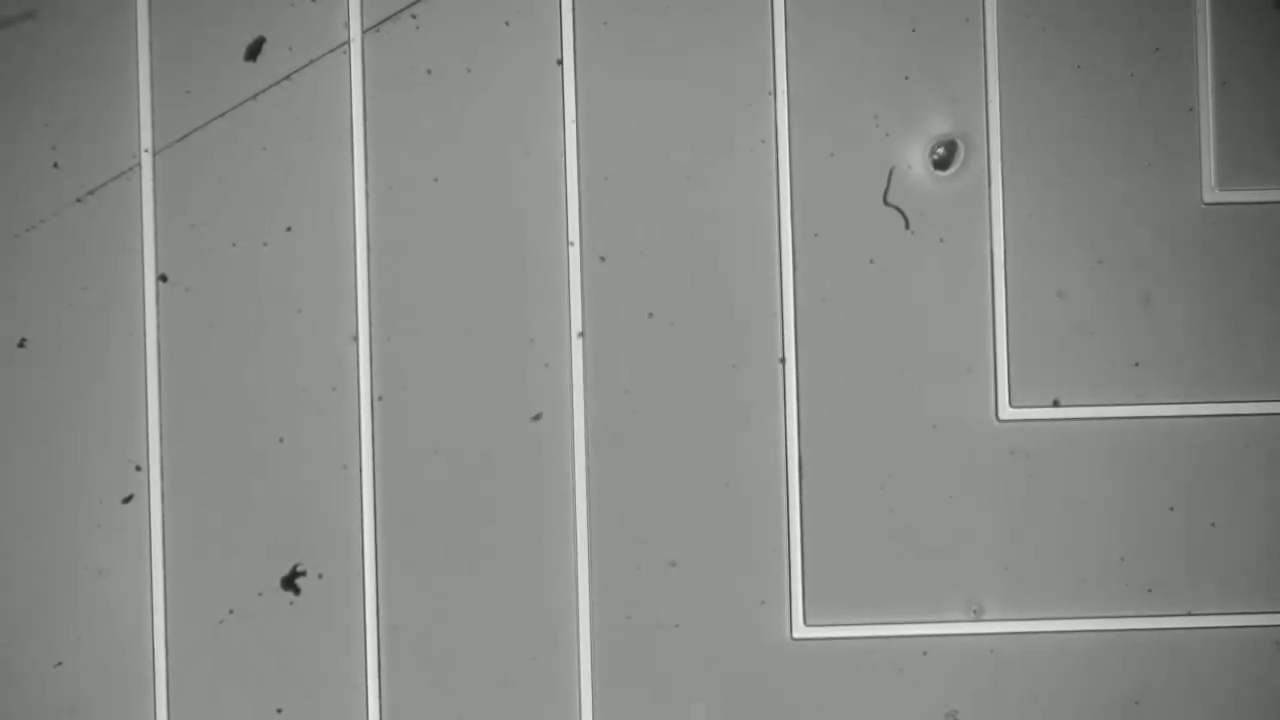scratch: (34, 1, 425, 239)
